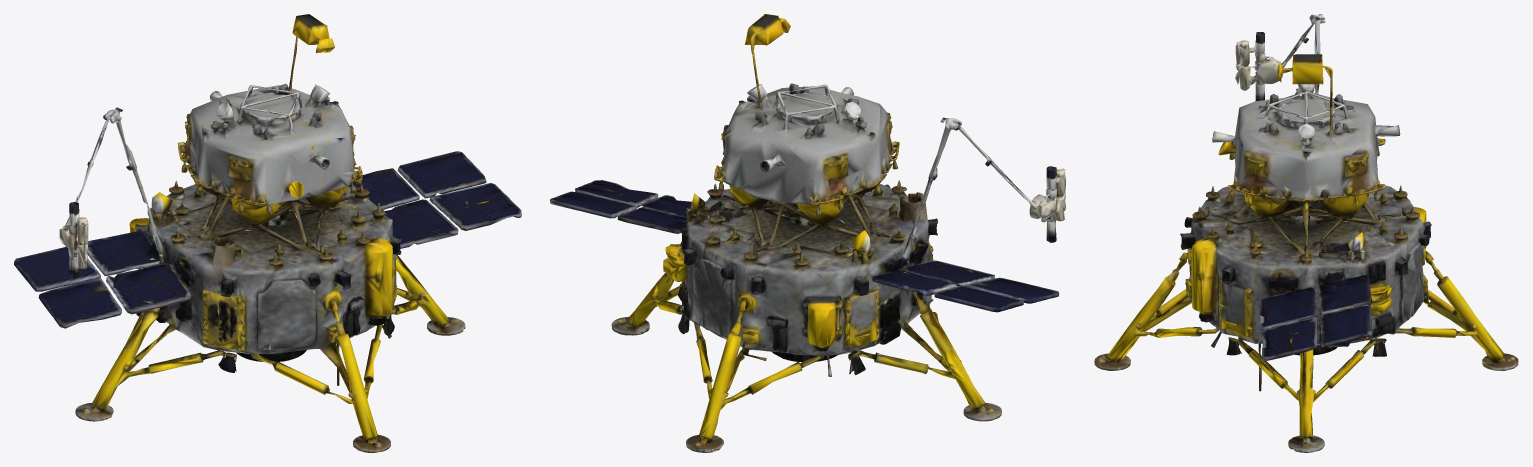
File: change5-low.glb
The picture shows the model from 3 angles, left to right: view 1: azimuth 30°, elevation 25°; view 2: azimuth 150°, elevation 25°; view 3: azimuth 270°, elevation 25°; orthographic projection. The views are drawn at different scales.
Size of the model in its own units: 1.9 by 1.37 by 1.58.
Materials: 1 (1 with a texture image).
